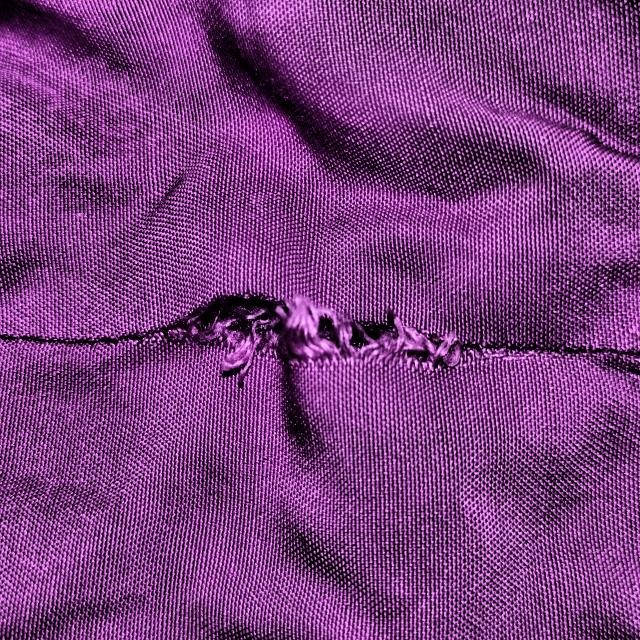seam: (79, 190, 530, 469)
